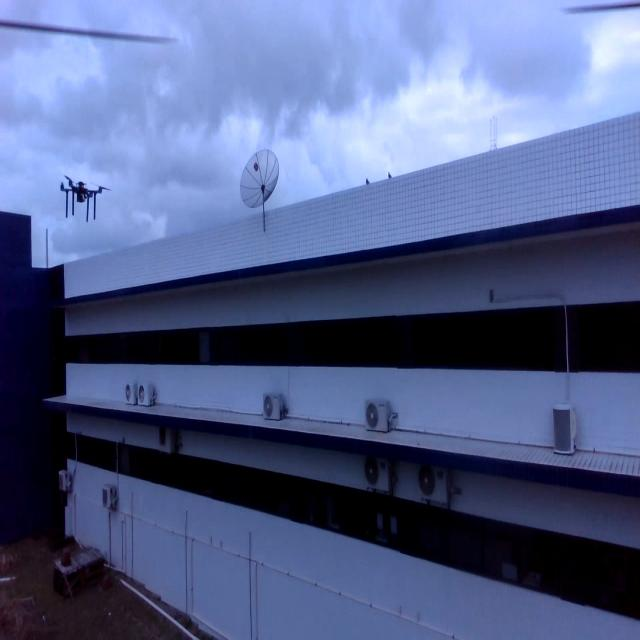-uav-: (58, 170, 109, 231)
